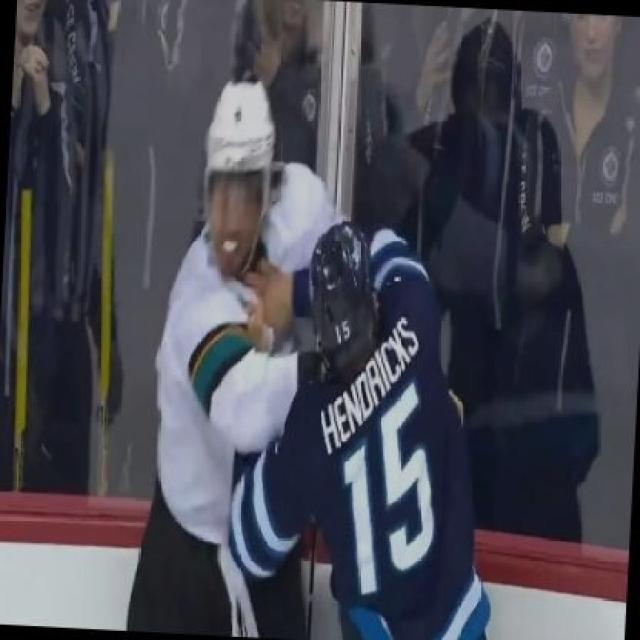fight: (120, 23, 510, 639)
